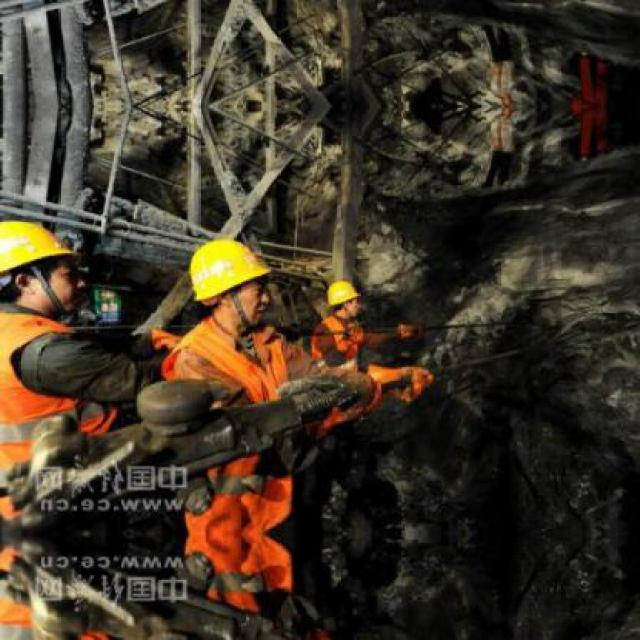Reflective-Jacket: (0, 302, 91, 488), (160, 318, 300, 413), (308, 315, 372, 376)
Safety-Helmet: (181, 232, 277, 308), (0, 213, 83, 285), (319, 274, 366, 314)
